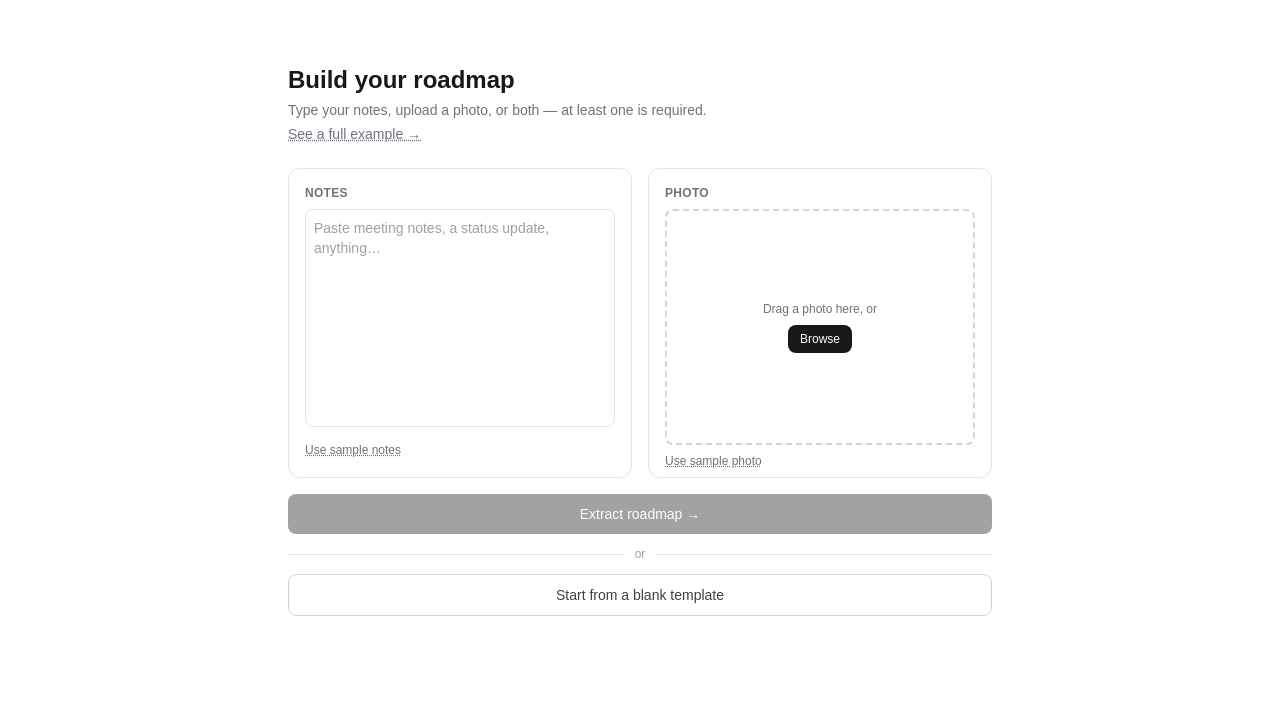
Scenario: PortfolioLandingPage — empty Portfolio (wayframe#123) › offers EntryForm inline to an owner instead of a plain error, and loads the workspace once a Program is created
Click the button "Start from a blank template" at (640, 595), box [288,574,992,616]
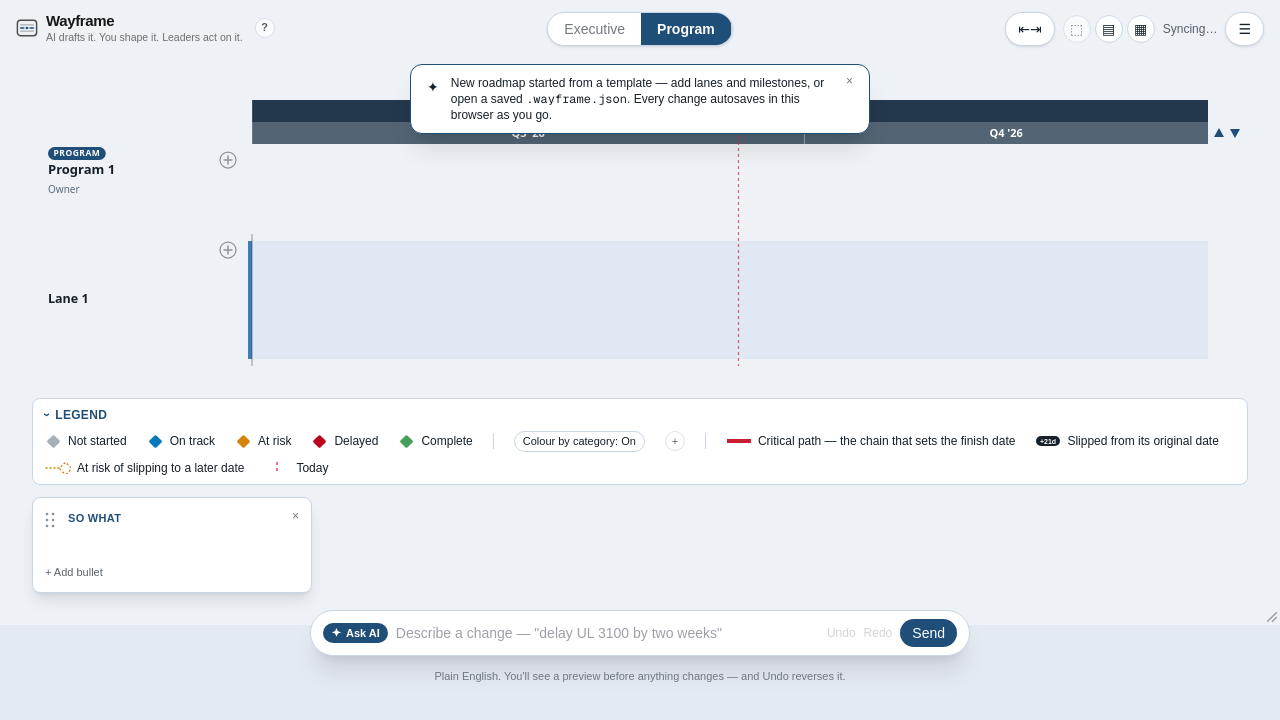
Check: the button "Start from a blank template" is gone
